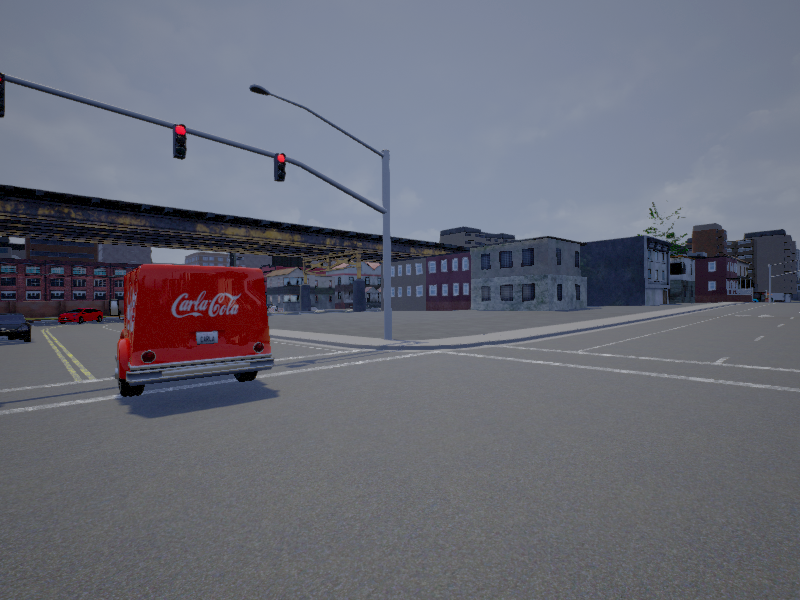Benign: (118, 265, 271, 397), (1, 311, 35, 342), (62, 307, 105, 323)
